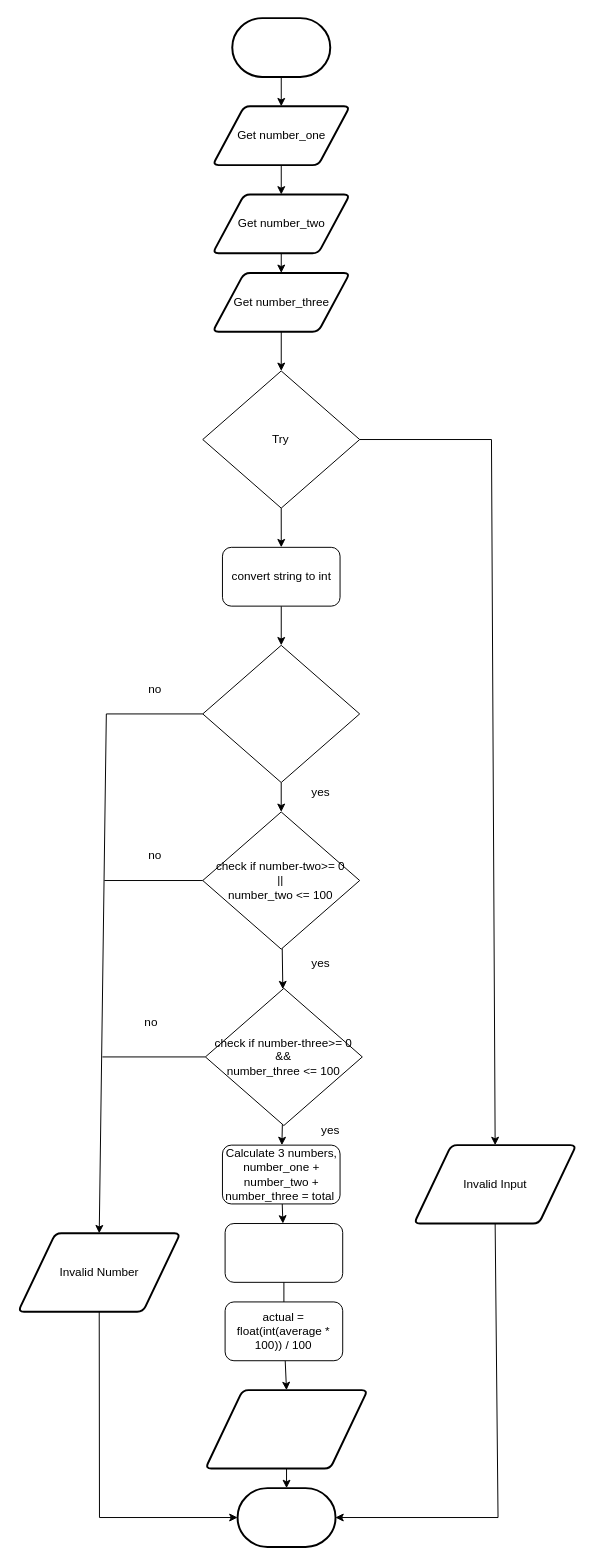
Some shapes in this 594 by 1564 pixel diagram are drawn without their labels. The box of each missing label's shape, as (x1, y1, x2, y2) in pixels:
average = total/3: (224, 1223, 343, 1282)
check if number-one >= 0 || number_one <= 100: (202, 644, 360, 783)
print "actual"!: (204, 1389, 368, 1469)
Start: (231, 17, 331, 77)
stop: (236, 1487, 336, 1547)
